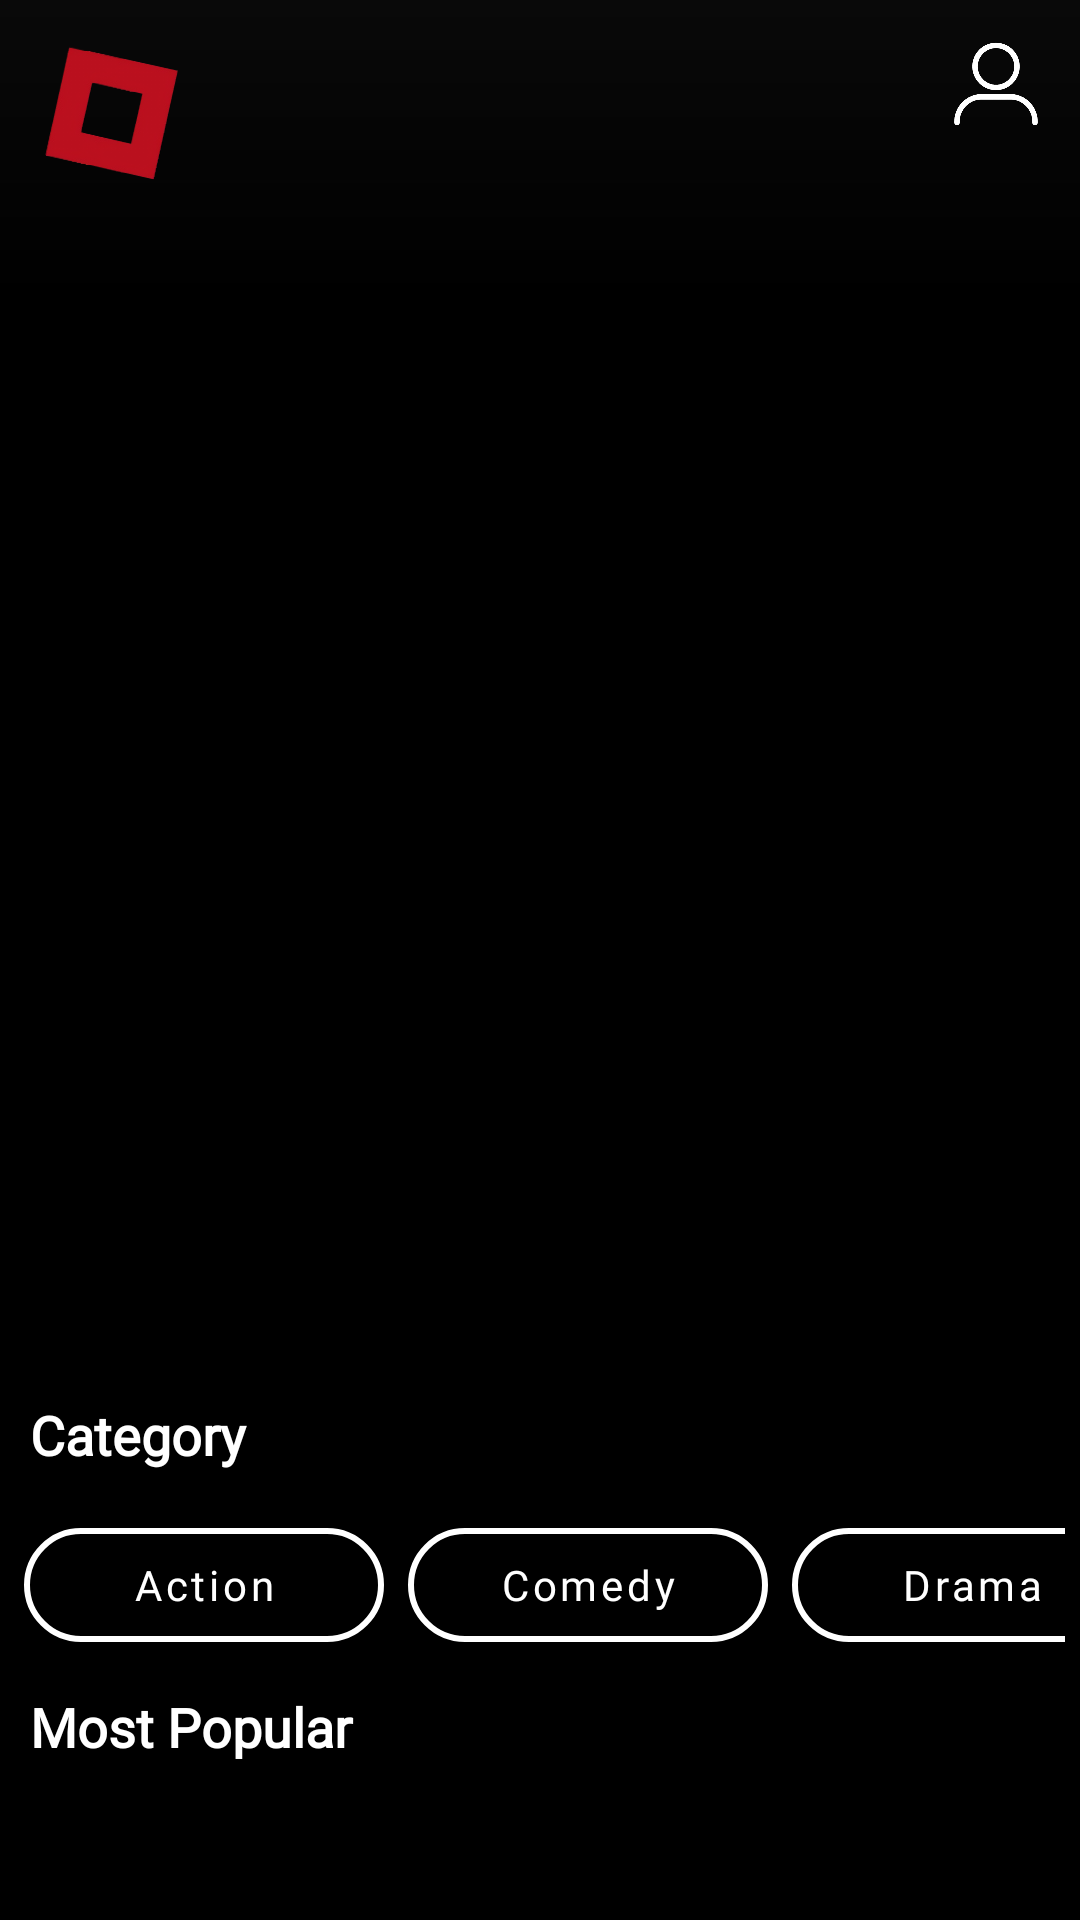

Point at icon controls on the screen. Image size 1080px x 1920px, points as (x,y).
Profile Icon: (996,84)
